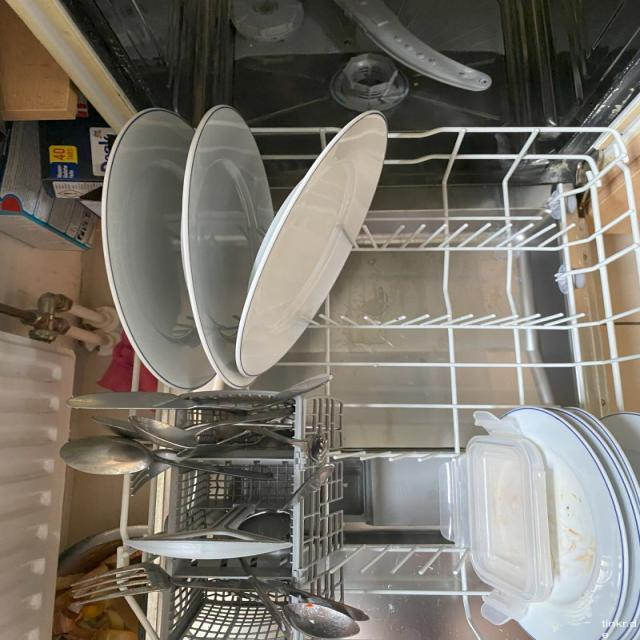clutery_bin: (139, 393, 313, 633)
empty_slot: (403, 138, 631, 403), (350, 415, 447, 607)
